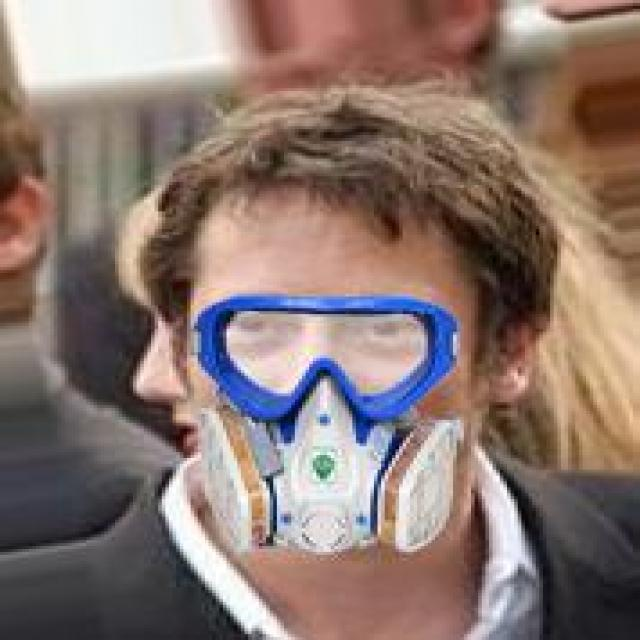mask: (119, 82, 586, 578)
